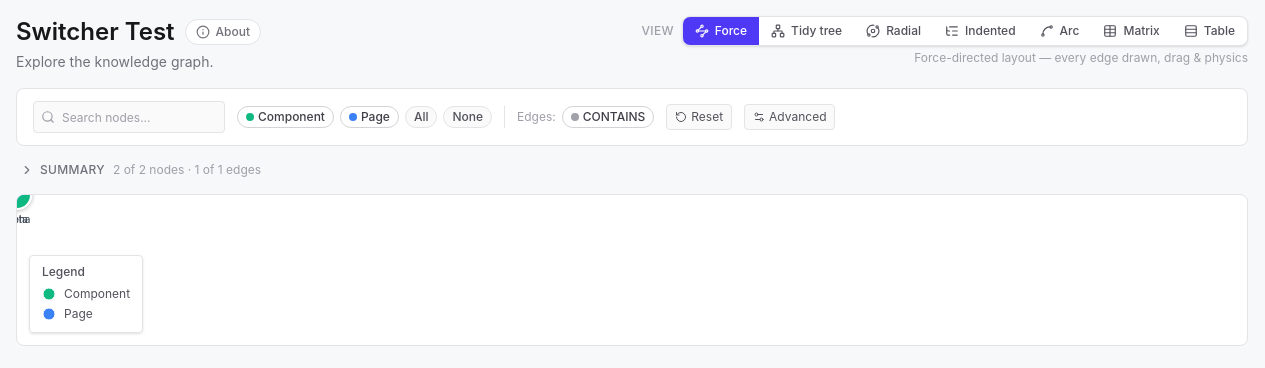
Test case: Viewer view switching › switches to the table view
Click the button "Table": (1209, 31) [1172, 17, 1247, 45]
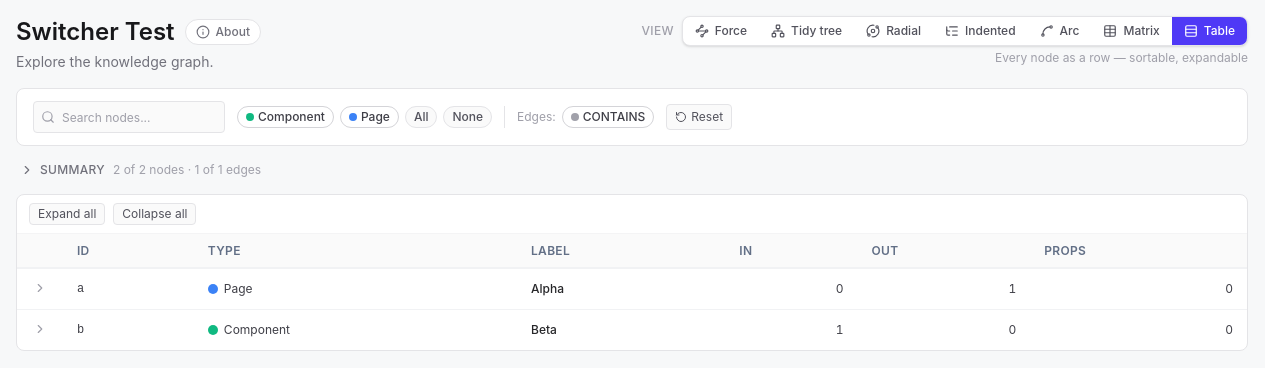
expect the element with test id "table-view" is shown: met, box [17, 195, 1247, 350]
expect the row with test id "table-row-a" is shown: met, box [17, 268, 1247, 310]
expect the row with test id "table-row-b" is shown: met, box [17, 310, 1247, 350]
